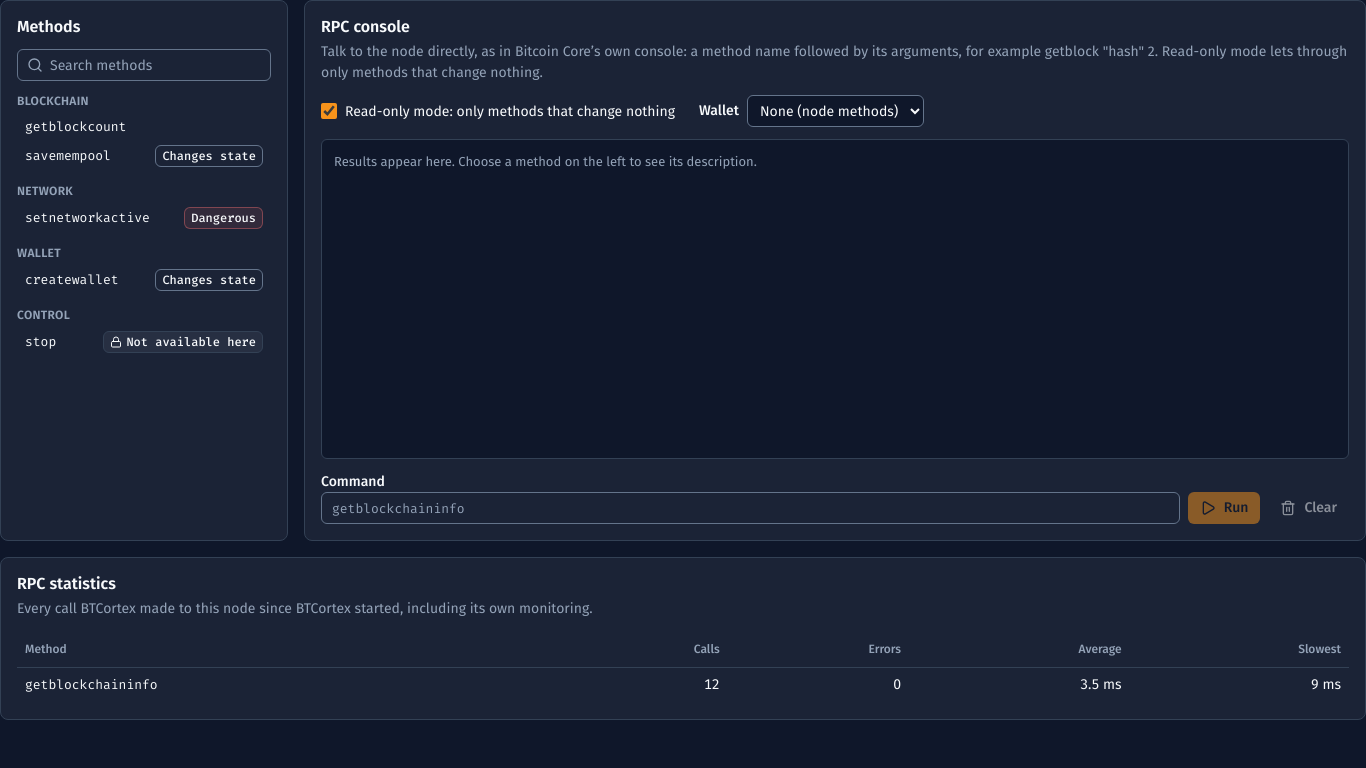
Test: RPC console › lists methods by category with their risks and shows the node’s help
The image size is (1366, 768).
Expected: the 1st text "Changes state" is shown, [155,144,263,166]
Expected: the text "Not available here" is shown, [103,330,263,352]
Click the button "getblockcount": click(144, 127) [17,113,271,140]
(page scrolled)
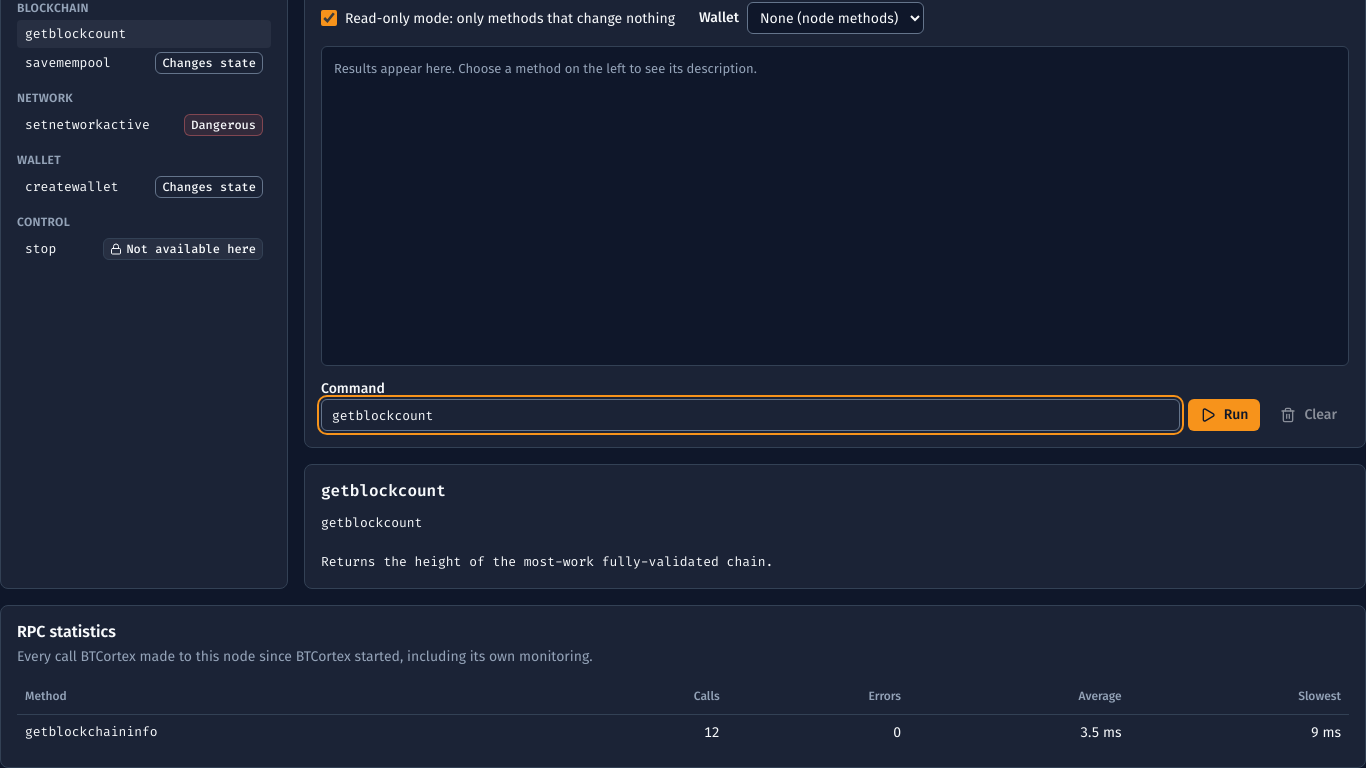
Expected: the text "getblockchaininfo" is shown, [17,714,571,750]
Result: the text "most-work fully-validated chain" is shown at [321,514,773,570]
Result: the field labelled "Command" holds "getblockcount " at [321,399,1180,431]
